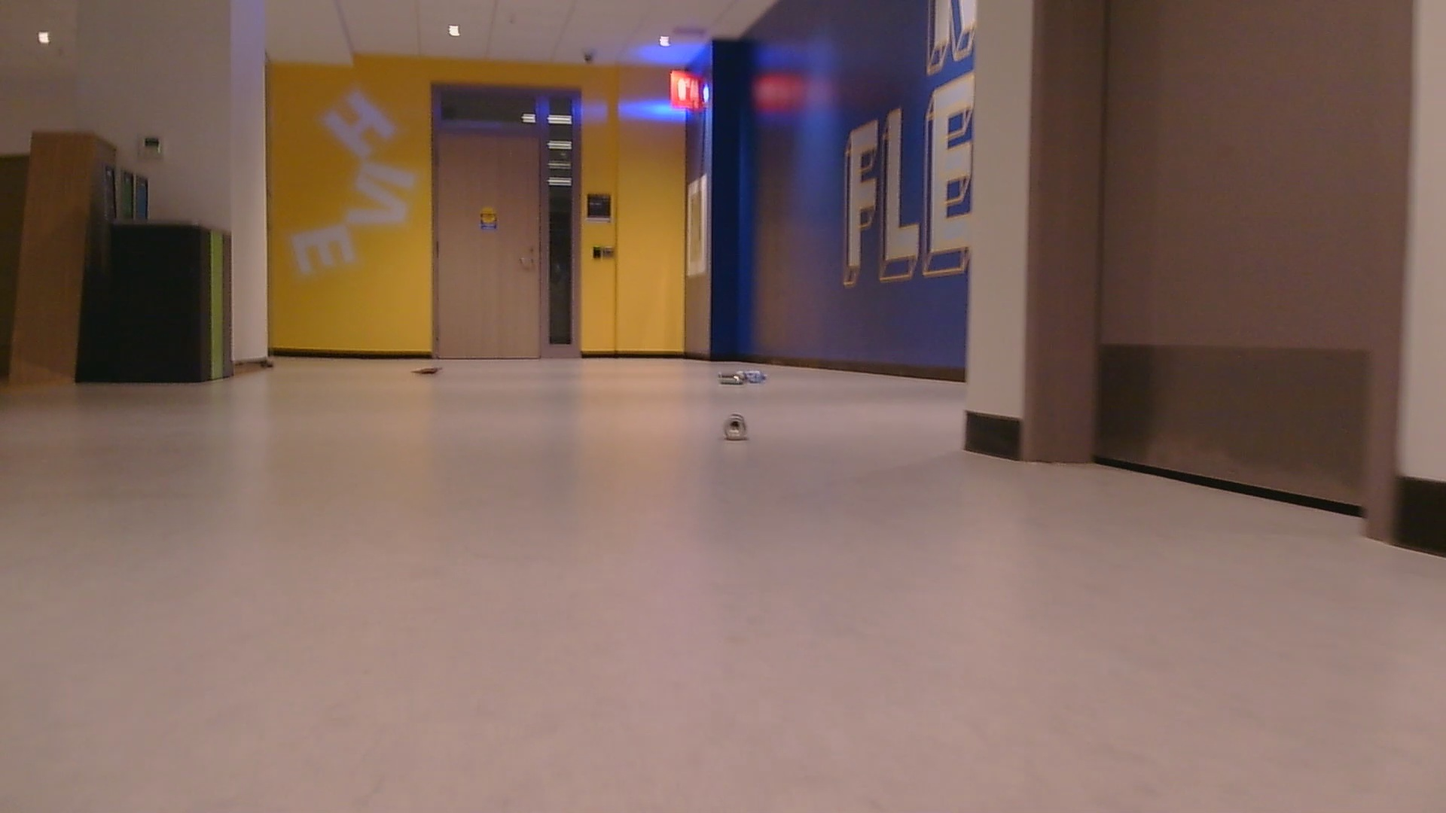carton: (718, 363, 773, 386), (711, 414, 749, 445), (414, 364, 447, 380)
